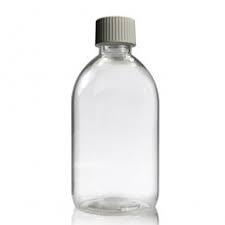Plastic: (90, 16, 138, 44), (106, 25, 134, 40), (101, 16, 109, 26)
